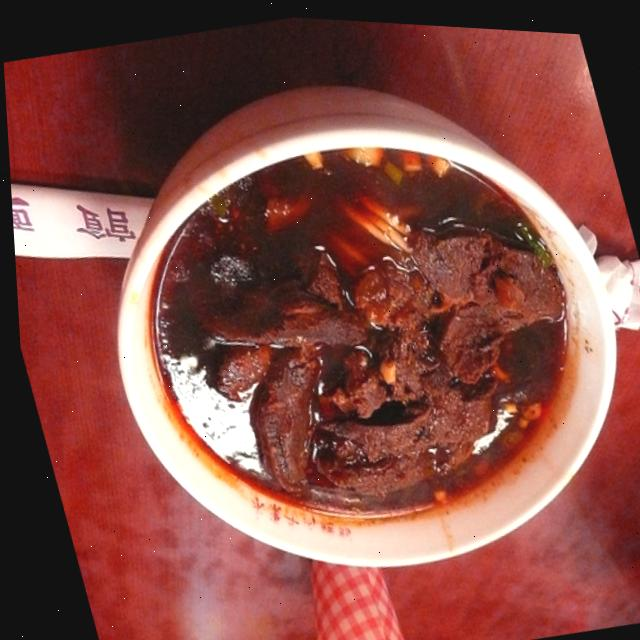面条主食: (59, 41, 640, 626)
